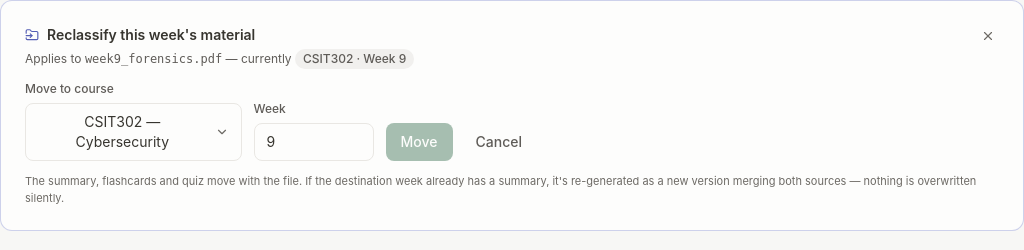
Test: ReclassifyPanel › disables Move and shows an error for a non-numeric week
This screenshot has width=1024, height=250.
Replace the text in the field labelled "Week" with "abc" at (314, 142), box [254,123,374,161]
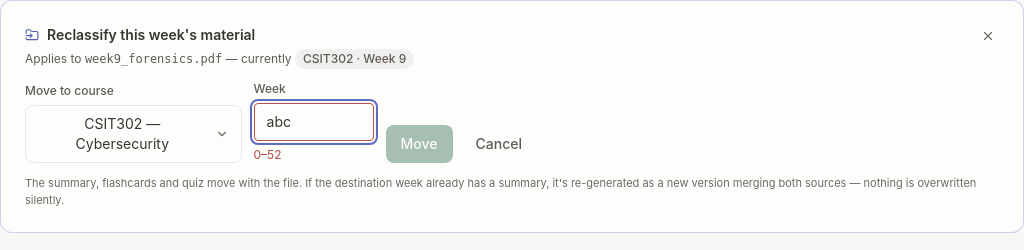
Expected: the button "Move" is disabled, [386,125,452,163]
Expected: the message reads "0–52", [254,147,282,162]
